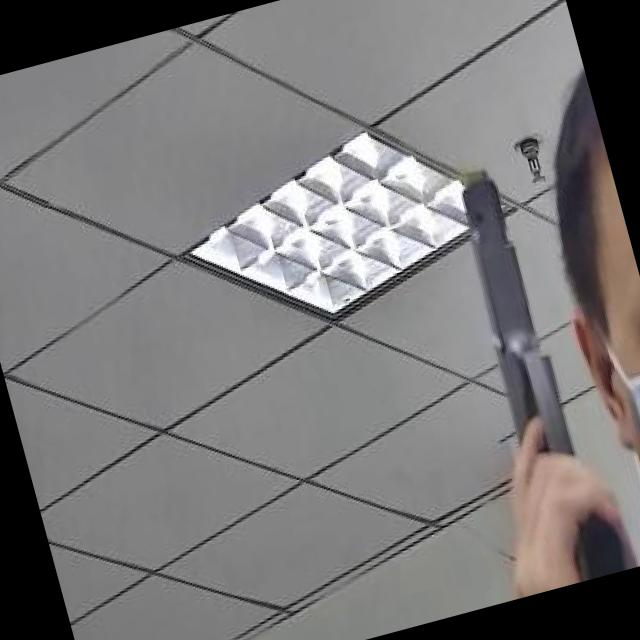Guns: (399, 113, 640, 598)
